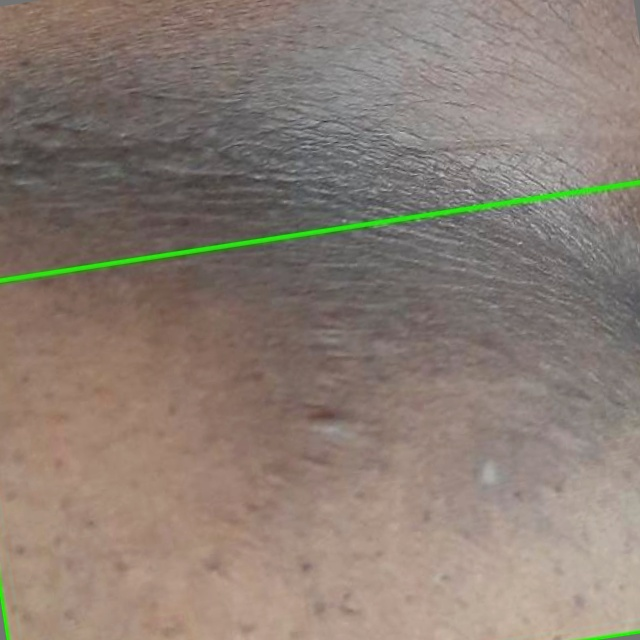Tinea Corporis: (0, 182, 639, 639)
